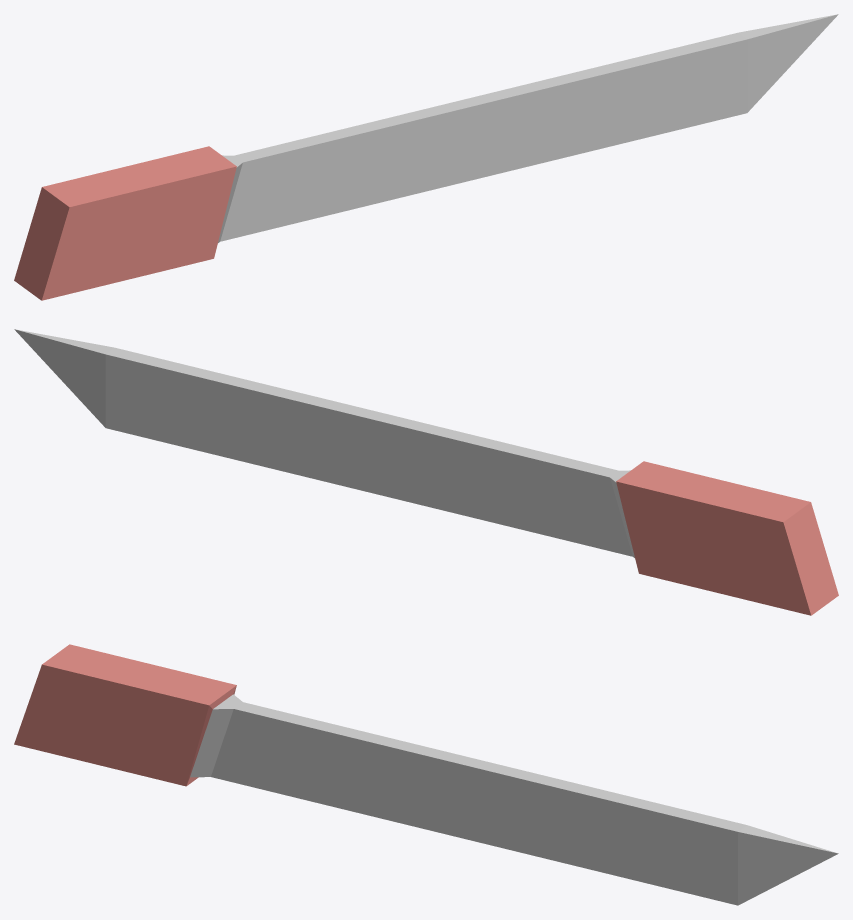
Rendered from blade.glb.
3 renders of one model, top to bottom at view 1: azimuth 30°, elevation 25°; view 2: azimuth 150°, elevation 25°; view 3: azimuth 330°, elevation 25°, orthographic.
Parts seen in each view (by area): view 1: Knife; view 2: Knife; view 3: Knife.
Boxes of the visible parts, box(x1,y1,x2,y2) form: Knife: box(14, 14, 838, 300); Knife: box(14, 329, 838, 615); Knife: box(14, 644, 838, 905).
Bounding box in the file's own units: 0.3235 × 0.033 × 0.0191.
